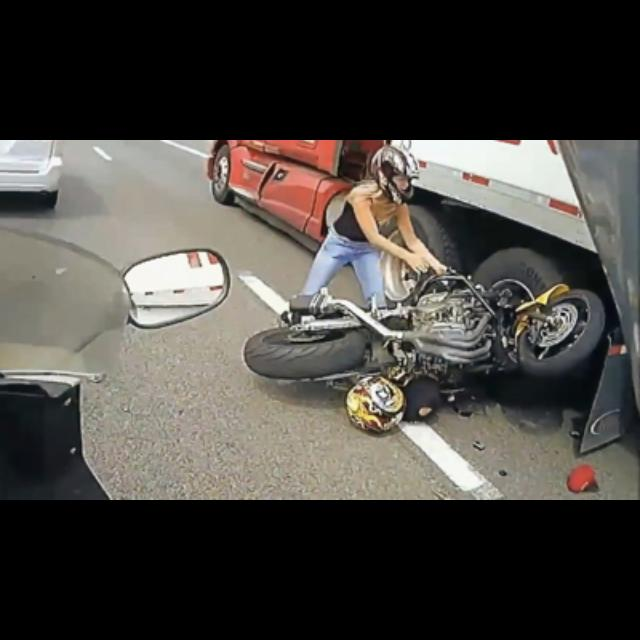With Helmet: (368, 142, 424, 206)
